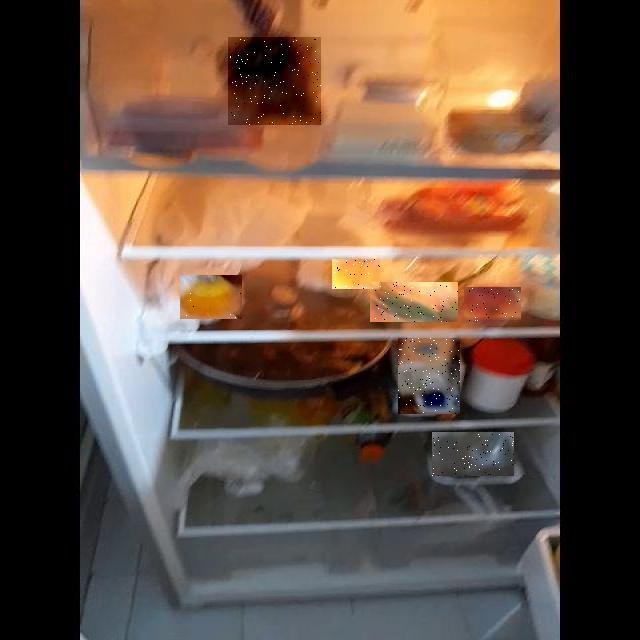broccoli: (175, 238, 640, 640)
milk: (168, 207, 628, 621)
